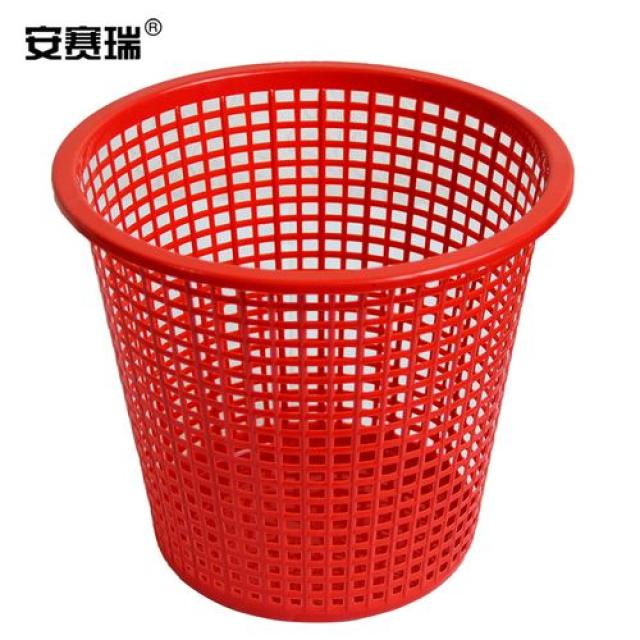dustbin: (49, 54, 578, 625)
